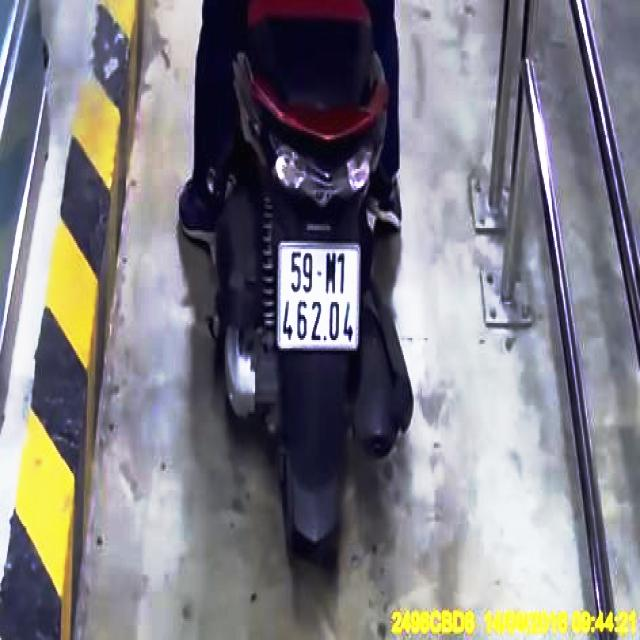license_plate: (279, 243, 361, 351)
